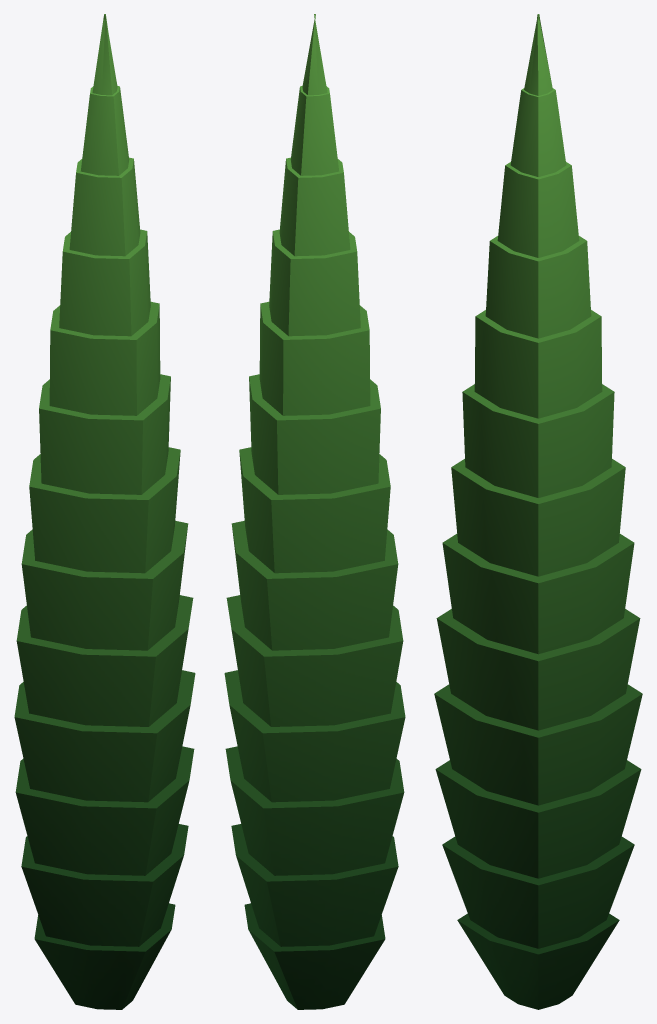
File: World_1_Tree_A.fbx
The picture shows the model from 3 angles, left to right: view 1: azimuth 30°, elevation 25°; view 2: azimuth 150°, elevation 25°; view 3: azimuth 270°, elevation 25°; orthographic projection.
Visible parts, largest first — view 1: World_1_Tree_A; view 2: World_1_Tree_A; view 3: World_1_Tree_A.
Boxes of the visible parts, x1,y1,x2,y2 form: World_1_Tree_A: (14, 14, 195, 1009); World_1_Tree_A: (224, 14, 405, 1009); World_1_Tree_A: (434, 14, 642, 1009).
Bounding box in the file's own units: 155 × 806 × 155.
